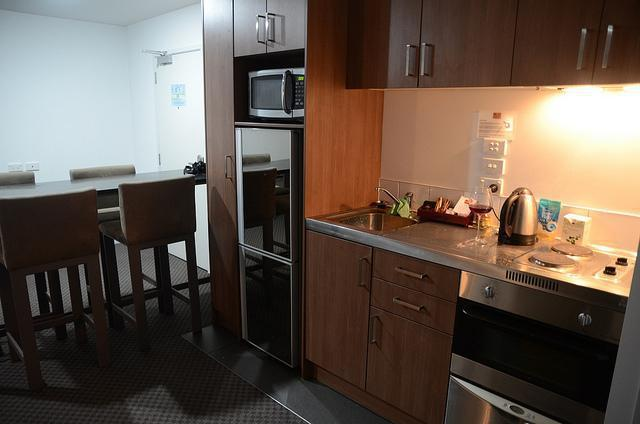Lavaplatos: (320, 182, 428, 250)
